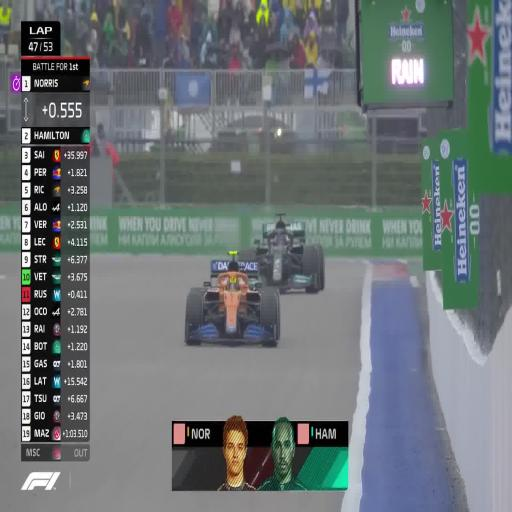f1_car: (185, 251, 280, 346), (239, 213, 324, 293)
